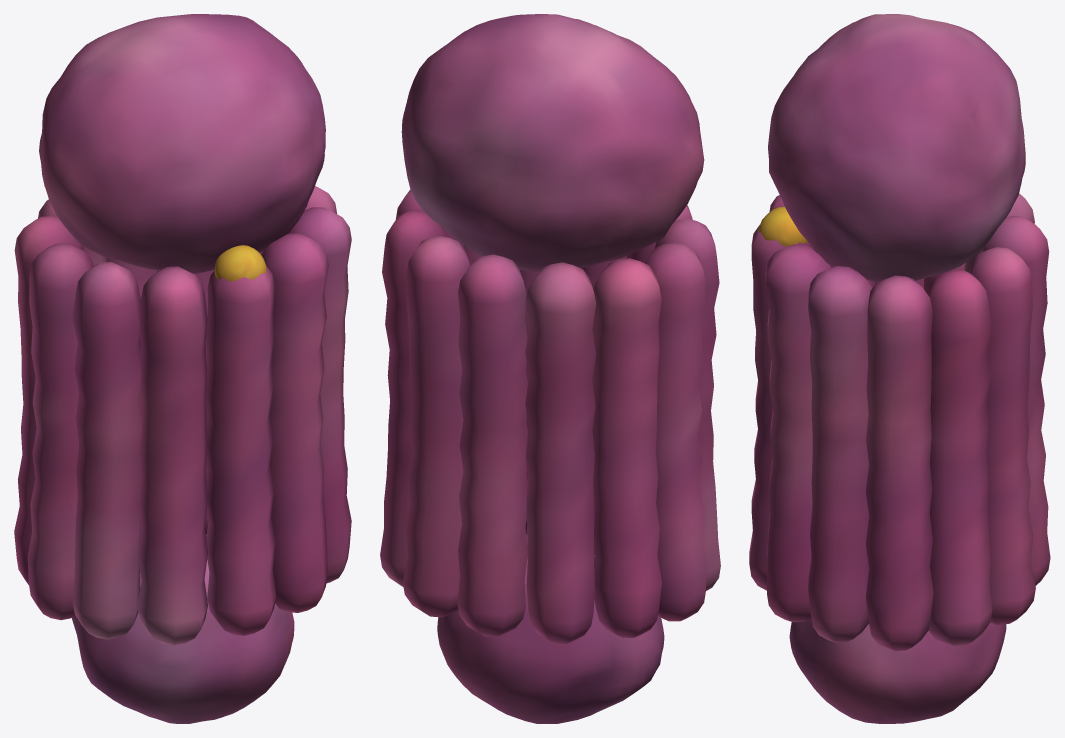
The model's file is etc-complex-4.glb.
The picture shows the model from 3 angles, left to right: view 1: azimuth 30°, elevation 25°; view 2: azimuth 150°, elevation 25°; view 3: azimuth 270°, elevation 25°; orthographic projection.
Parts seen in each view (by area): view 1: etc-complex-4-transmembrane, etc-complex-4-lobes, etc-complex-4-cofactor; view 2: etc-complex-4-transmembrane, etc-complex-4-lobes; view 3: etc-complex-4-transmembrane, etc-complex-4-lobes, etc-complex-4-cofactor.
Boxes of the visible parts, <box> form: etc-complex-4-transmembrane: <box>14,186,351,645</box>; etc-complex-4-lobes: <box>39,14,325,723</box>; etc-complex-4-cofactor: <box>214,245,266,281</box>; etc-complex-4-transmembrane: <box>380,189,720,643</box>; etc-complex-4-lobes: <box>401,14,704,723</box>; etc-complex-4-transmembrane: <box>749,193,1050,651</box>; etc-complex-4-lobes: <box>768,14,1025,723</box>; etc-complex-4-cofactor: <box>758,207,807,246</box>.
Size of what is drawn, in the model's own units: 0.917 by 1.99 by 0.7947.
